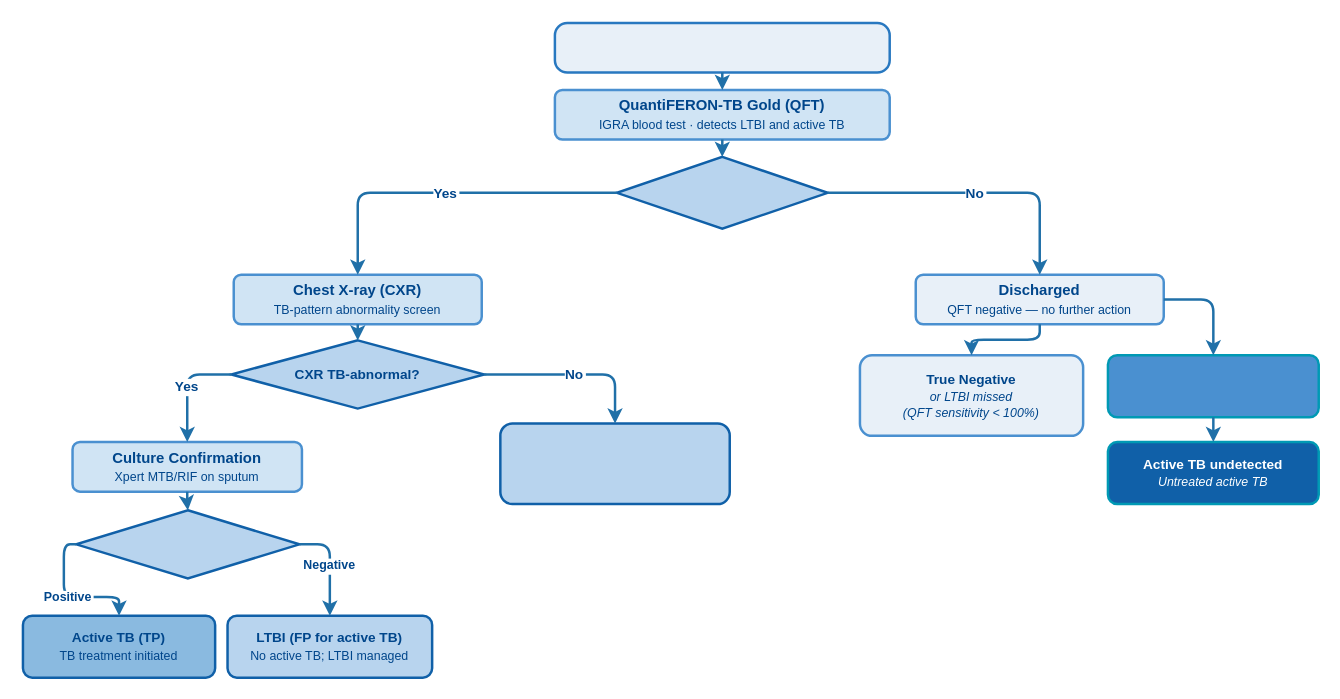
The diagram is 1340 pixels wide and 699 high, and some of its shapes have lost their labels. Here are the shapes that lost their labels. From the top down, the box of each, then its label:
(553, 21, 890, 73): Migrant Arrives 100,000 cohort at t = 0
(615, 155, 828, 229): QFT positive?
(1106, 353, 1319, 418): False Negative (FN) Active TB missed
(498, 422, 730, 505): LTBI Confirmed QFT+ · CXR clear LTBI treatment offered
(74, 508, 300, 579): Xpert positive?
